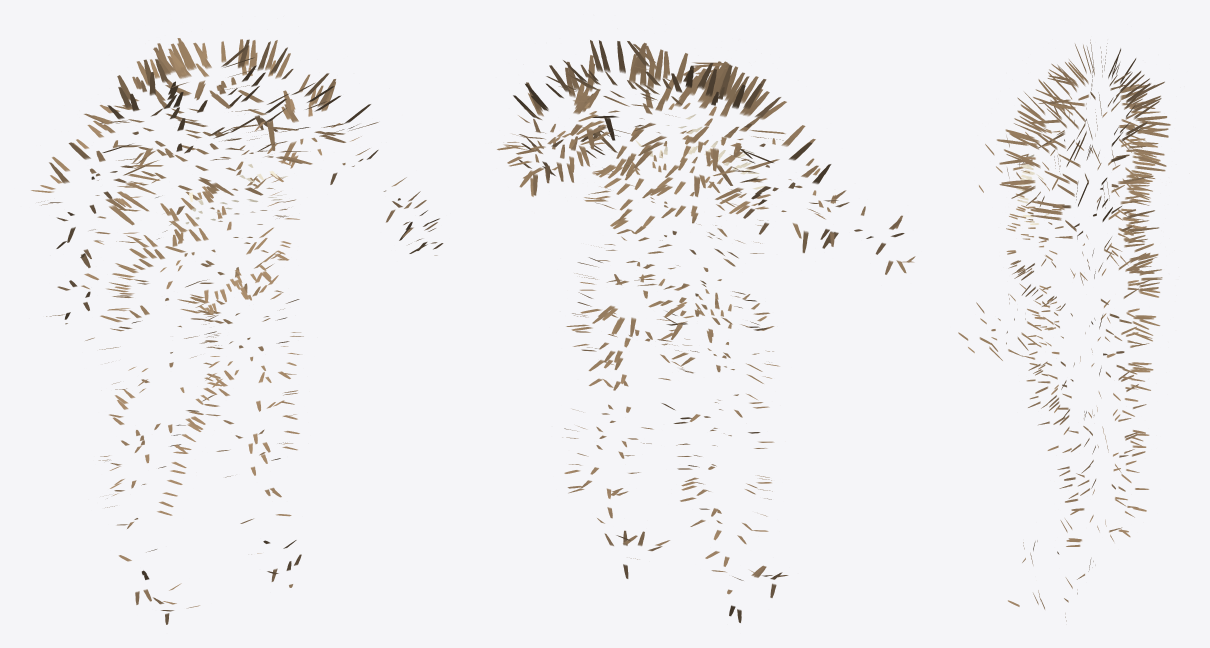
Rendered from fur_cards_sen_lod1.glb.
The picture shows the model from 3 angles, left to right: view 1: azimuth 30°, elevation 25°; view 2: azimuth 150°, elevation 25°; view 3: azimuth 270°, elevation 25°; orthographic projection. The views are drawn at different scales.
Parts seen in each view (by area): view 1: FurCards; view 2: FurCards; view 3: FurCards.
Boxes of the visible parts, x1=… form: FurCards: x1=31, y1=38, x2=443, y2=624; FurCards: x1=497, y1=40, x2=915, y2=622; FurCards: x1=958, y1=40, x2=1170, y2=621.
Size of the model in its own units: 1.2 by 1.62 by 0.6352.
1 material, 1 textured.
